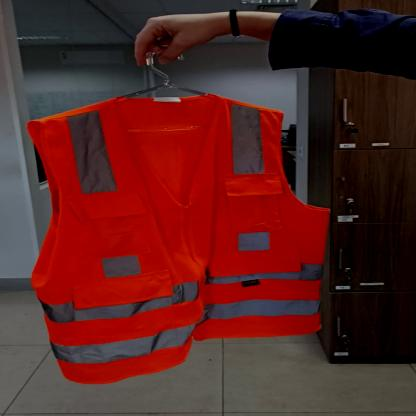colete: (22, 91, 338, 386)
